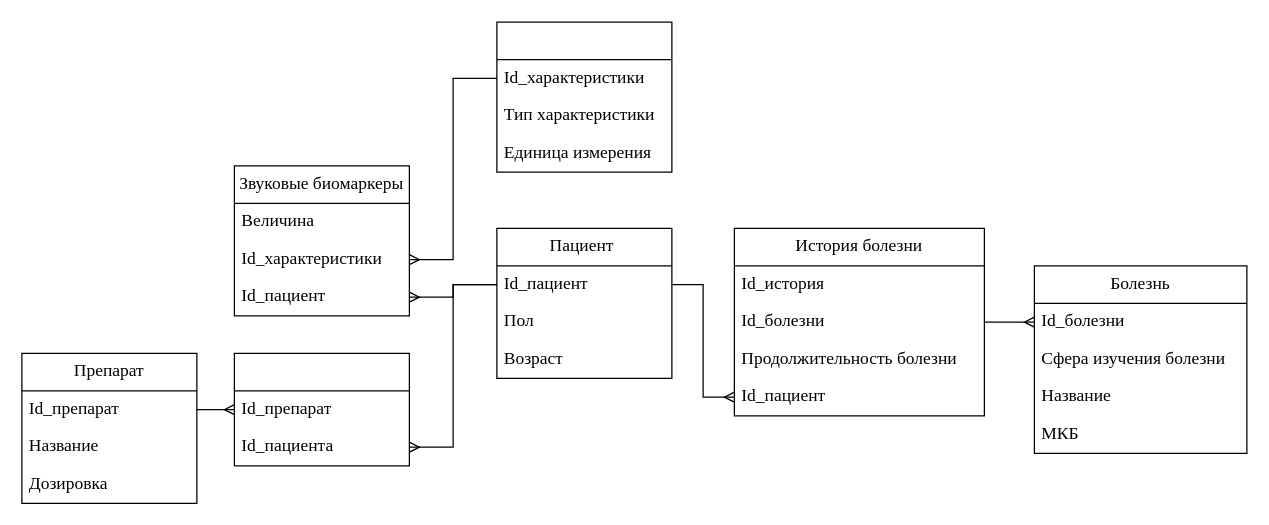
The diagram is 1269 pixels wide and 525 high, and some of its shapes have lost their labels. Each missing label, with the box of its shape:
Назначенные препараты: (233, 352, 409, 466)
Характеристики речи: (496, 21, 672, 172)
